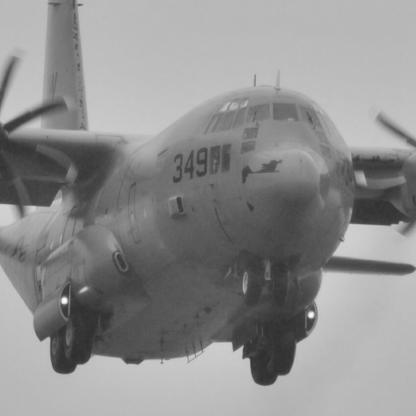C130: (2, 2, 416, 387)
